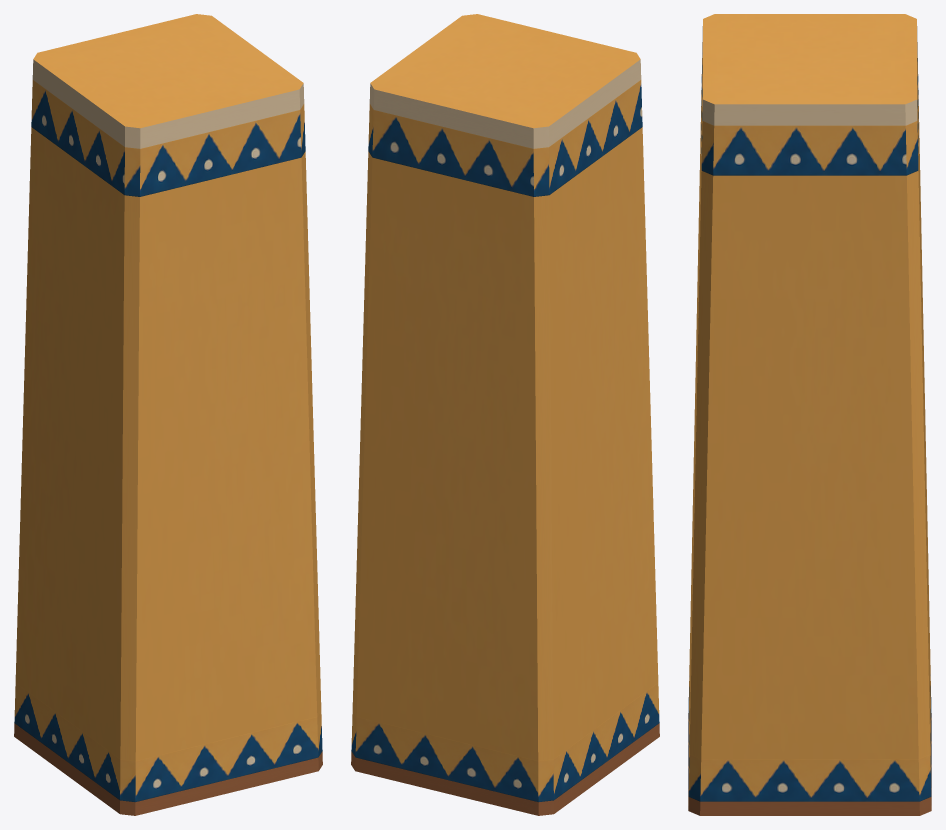
The model's file is rc_wa_wall_endpier_8m.glb.
The picture shows the model from 3 angles, left to right: view 1: azimuth 30°, elevation 25°; view 2: azimuth 150°, elevation 25°; view 3: azimuth 270°, elevation 25°; orthographic projection. The views are drawn at different scales.
Visible parts, largest first — view 1: SM_RC_WA_Wall_EndPier_8m; view 2: SM_RC_WA_Wall_EndPier_8m; view 3: SM_RC_WA_Wall_EndPier_8m.
Boxes of the visible parts, bbox=[...] form: SM_RC_WA_Wall_EndPier_8m: bbox=[14, 14, 322, 815]; SM_RC_WA_Wall_EndPier_8m: bbox=[351, 14, 659, 815]; SM_RC_WA_Wall_EndPier_8m: bbox=[688, 14, 931, 815].
Bounding box in the file's own units: 2.5 × 8 × 2.5.
1 material, 1 textured.
